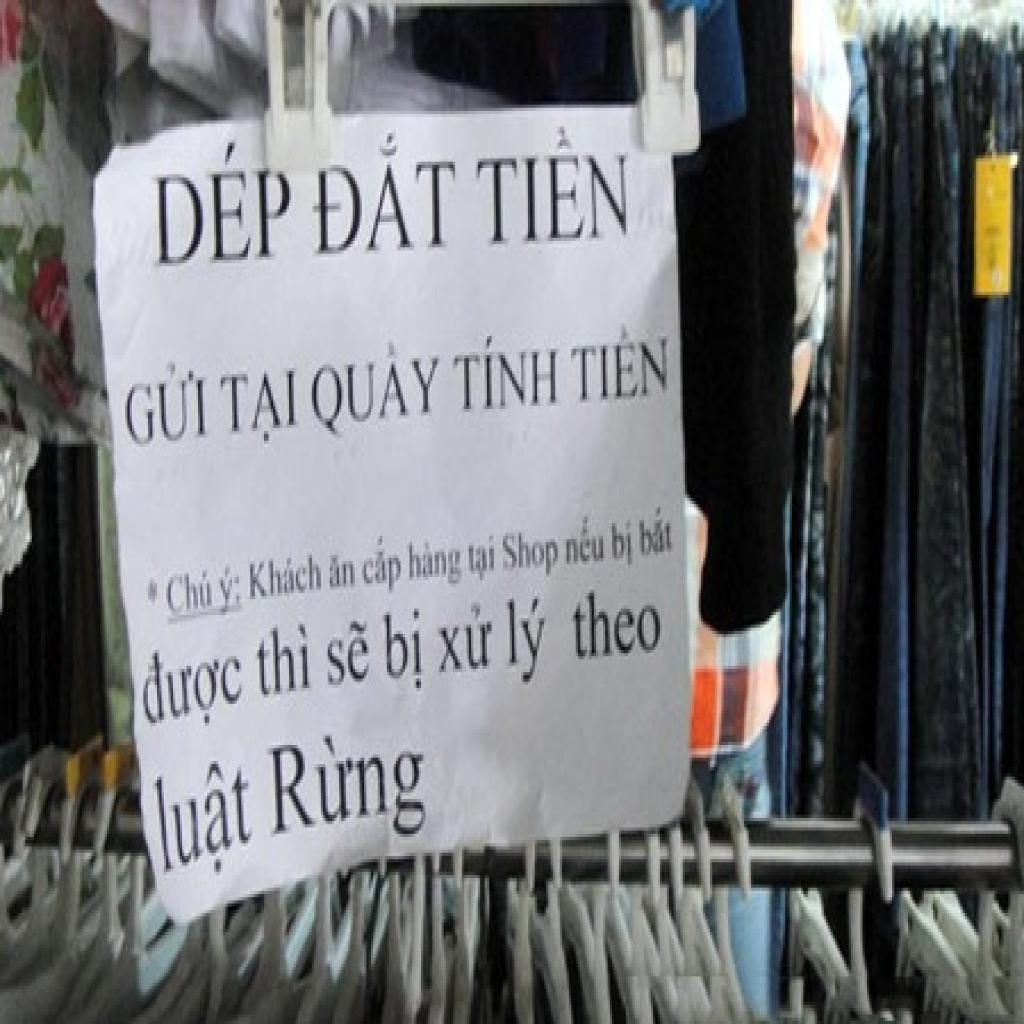text: (468, 124, 642, 263), (144, 124, 300, 279), (307, 127, 464, 266), (143, 742, 264, 891), (310, 330, 448, 450), (136, 631, 250, 745), (448, 326, 567, 422), (566, 320, 676, 416), (118, 352, 218, 456), (567, 580, 671, 672), (216, 358, 307, 457), (248, 612, 319, 707), (432, 593, 501, 685), (503, 592, 557, 700), (380, 599, 432, 701), (246, 545, 328, 609), (321, 612, 375, 694), (498, 520, 564, 586), (405, 529, 467, 593), (160, 561, 218, 625), (358, 530, 408, 602), (562, 507, 608, 571), (635, 498, 678, 564), (466, 526, 500, 586), (608, 514, 637, 577), (216, 561, 248, 618), (326, 548, 360, 596)
